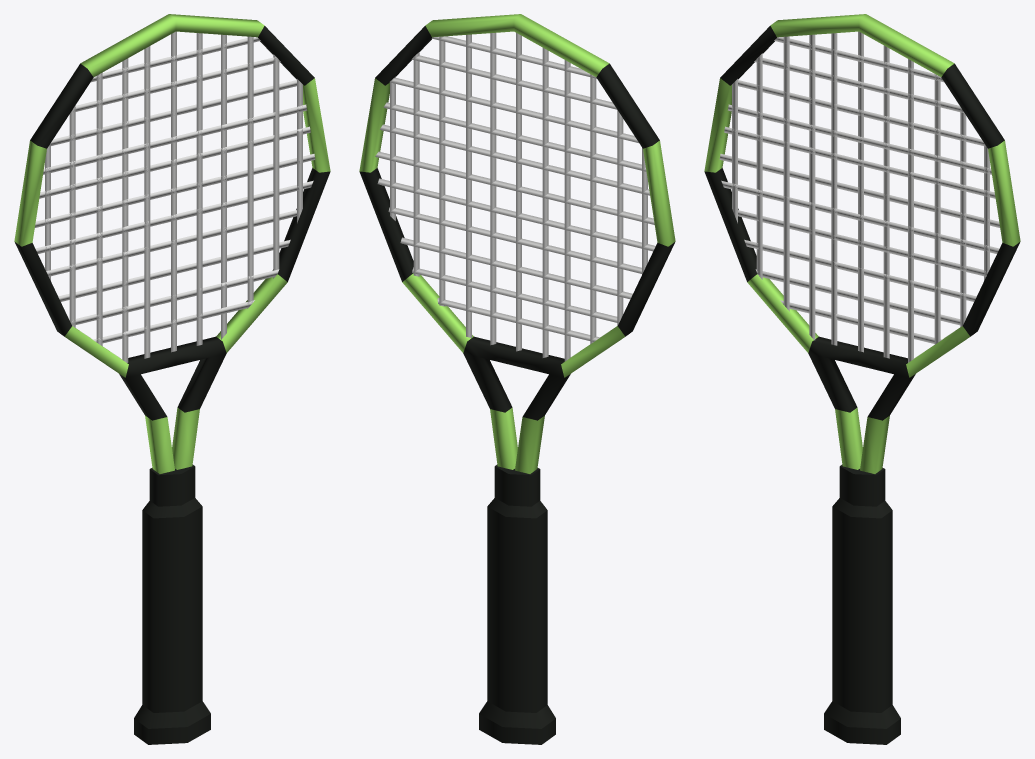
File: 48_prop_tennis racket.FBX
The picture shows the model from 3 angles, left to right: view 1: azimuth 30°, elevation 25°; view 2: azimuth 150°, elevation 25°; view 3: azimuth 330°, elevation 25°; orthographic projection.
Visible parts, largest first — view 1: prop_tennis racket; view 2: prop_tennis racket; view 3: prop_tennis racket.
Boxes of the visible parts, left/top/right/bottom form: prop_tennis racket: left=14, top=14, right=330, bottom=744; prop_tennis racket: left=359, top=14, right=675, bottom=744; prop_tennis racket: left=704, top=14, right=1020, bottom=744.
Size of the model in its own units: 30.52 by 67.52 by 5.15.
